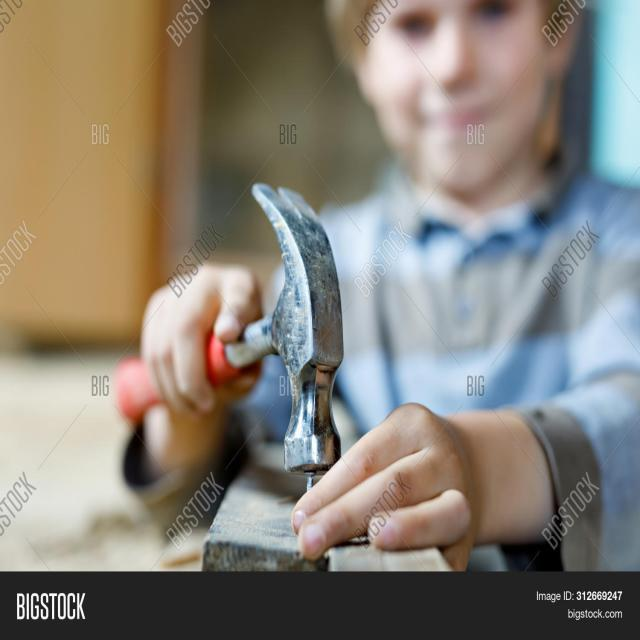hammer: (72, 174, 354, 483)
